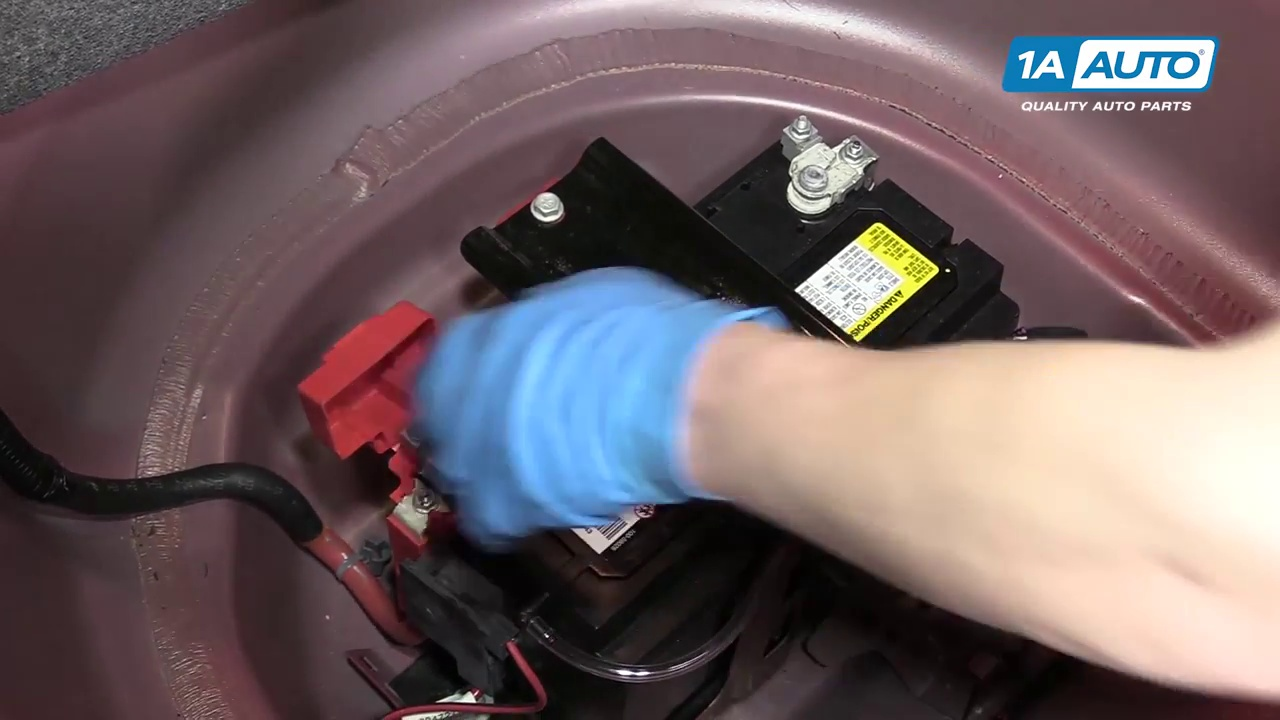battery: (417, 123, 1008, 564)
neg_connected: (763, 122, 897, 234)
pos_touched: (296, 272, 586, 569)
